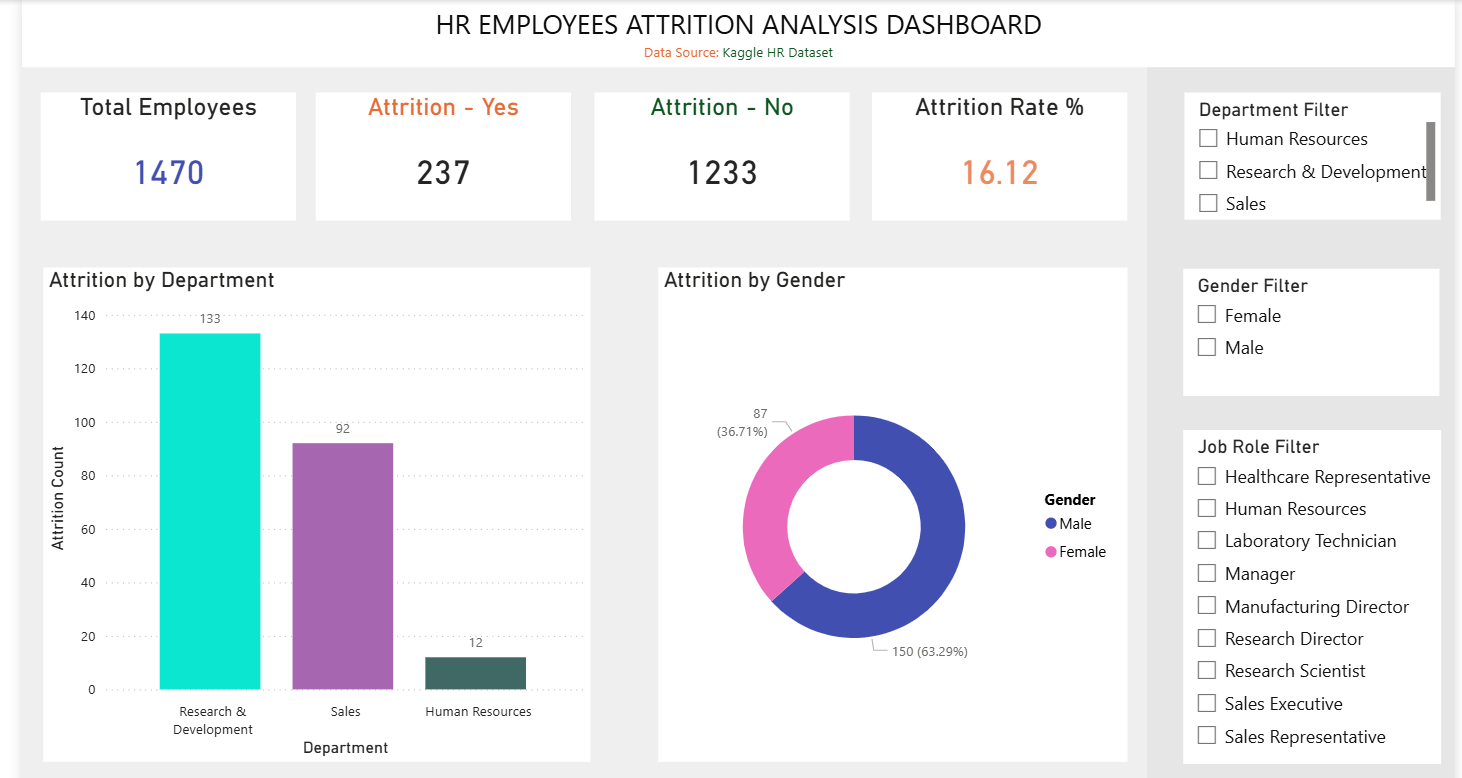

Layout of this report page (visuals, bound fields, positions):
{"tool":"powerbi","page":{"name":"Page 1","canvas":[1280,720],"ordinal":0},"visuals":[{"type":"card","title":"Total Employees","fields":{"Values":["CountNonNull(HR DATASET.EmployeeNumber)"]},"box":[17.1,82.7,228.1,114],"z":0},{"type":"card","title":"Attrition - Yes","fields":{"Values":["CountNonNull(HR DATASET.Attrition Clean)"]},"box":[262.3,82.7,228.1,114],"z":1000},{"type":"card","title":"Attrition Rate %","fields":{"Values":["HR DATASET.Attrition Rate %"]},"box":[759.7,82.7,228.1,114],"z":2000},{"type":"clusteredColumnChart","title":"Attrition by Department","fields":{"Category":["HR DATASET.Department Clean"],"Y":["HR DATASET.Attrition Yes"]},"box":[18.5,239.5,488.9,441.9],"z":3000},{"type":"card","title":"Attrition - No","fields":{"Values":["HR DATASET.Attrition No"]},"box":[511.7,82.7,228.1,114],"z":4000},{"type":"donutChart","title":"Attrition by Gender ","fields":{"Category":["HR DATASET.Gender Clean"],"Y":["HR DATASET.Attrition Yes"]},"box":[568.7,239.5,419.1,441.9],"z":5000},{"type":"textbox","box":[1004.9,0,275.1,719.8],"z":6000},{"type":"textbox","box":[0,0,1280.3,60.2],"z":7000},{"type":"slicer","fields":{"Values":["HR DATASET.Gender Clean"]},"box":[1037.1,240.1,228.7,113.7],"z":8000},{"type":"slicer","fields":{"Values":["HR DATASET.Department Clean"]},"box":[1038.5,82.4,228.7,113.7],"z":9000},{"type":"slicer","fields":{"Values":["HR DATASET.Job Role Clean"]},"box":[1037.1,383.6,230.1,298.3],"z":10000}]}

Visuals, with their boxes on the page's 1280x720 design canvas (x1, y1, x2, y2). These are canvas units, not pixel positions in the 1462x778 screenshot, which may show the page scaled, cropped or inside an application window:
"Total Employees" card: 17/83/245/197
"Attrition - Yes" card: 262/83/490/197
"Attrition Rate %" card: 760/83/988/197
"Attrition by Department" clusteredColumnChart: 18/240/507/681
"Attrition - No" card: 512/83/740/197
"Attrition by Gender " donutChart: 569/240/988/681
textbox: 1005/0/1280/720
textbox: 0/0/1280/60
slicer - HR DATASET.Gender Clean: 1037/240/1266/354
slicer - HR DATASET.Department Clean: 1038/82/1267/196
slicer - HR DATASET.Job Role Clean: 1037/384/1267/682
